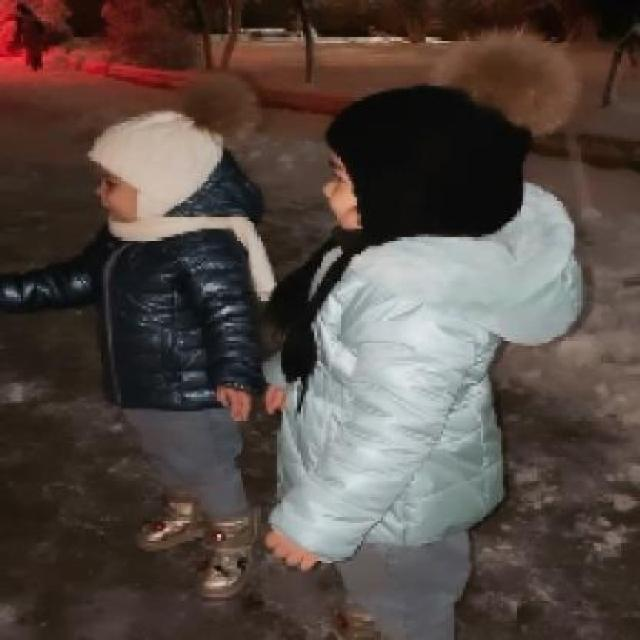child: (262, 28, 588, 638), (1, 69, 276, 602)
